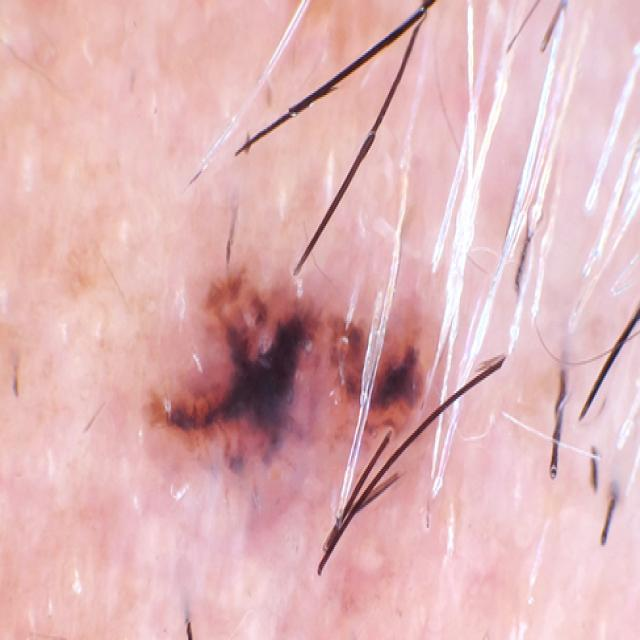Carcinoma: (154, 225, 478, 514)
